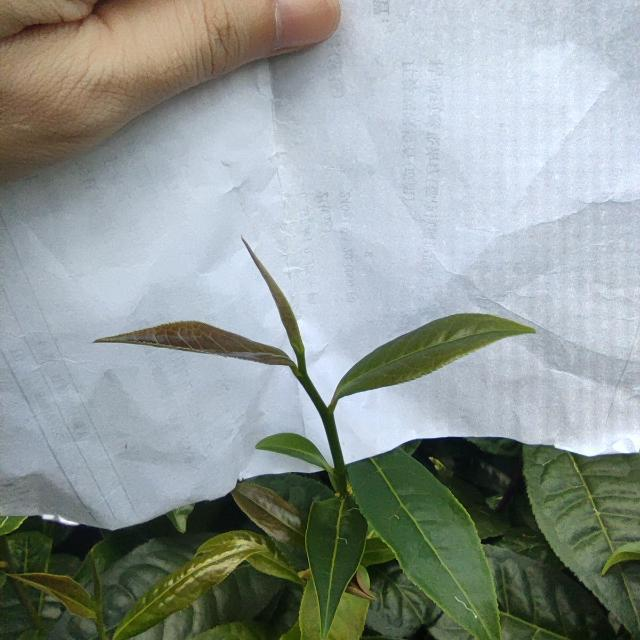Stem: (296, 371, 312, 387)
